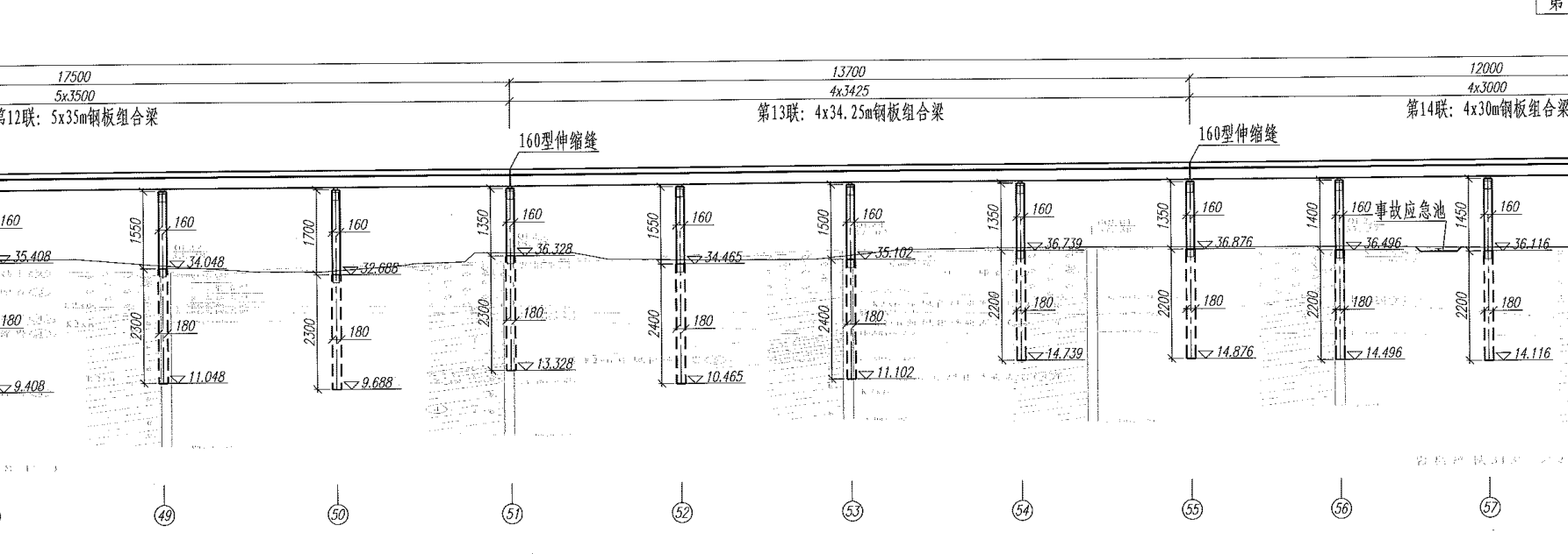B: (496, 59, 1201, 89)
C: (995, 171, 1122, 527), (819, 179, 937, 526), (1311, 172, 1425, 524), (135, 185, 249, 530), (309, 183, 421, 529), (486, 179, 594, 532), (652, 180, 761, 526), (1164, 171, 1270, 525), (1466, 169, 1567, 527)
